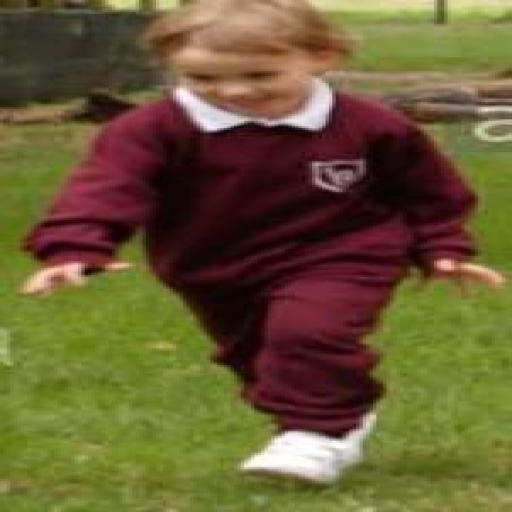person: (21, 0, 505, 484)
